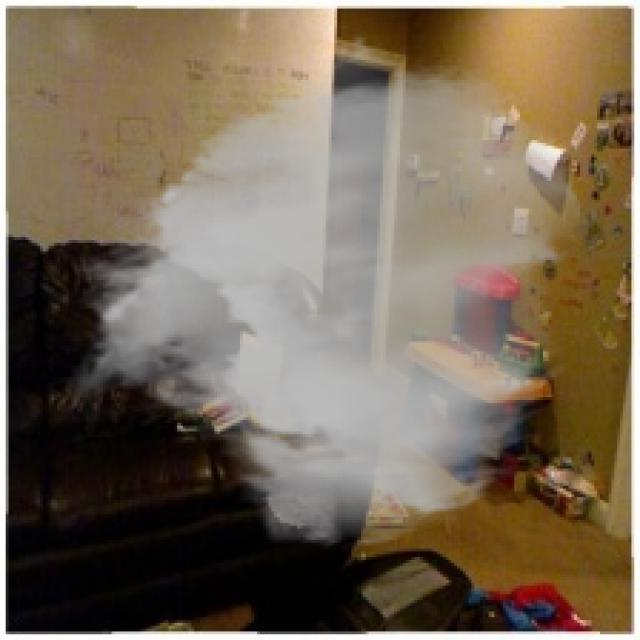smoke: (63, 34, 586, 552)
